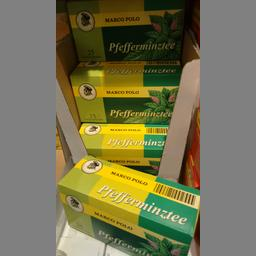tea: (56, 153, 198, 255), (66, 0, 188, 61), (66, 60, 183, 122)
